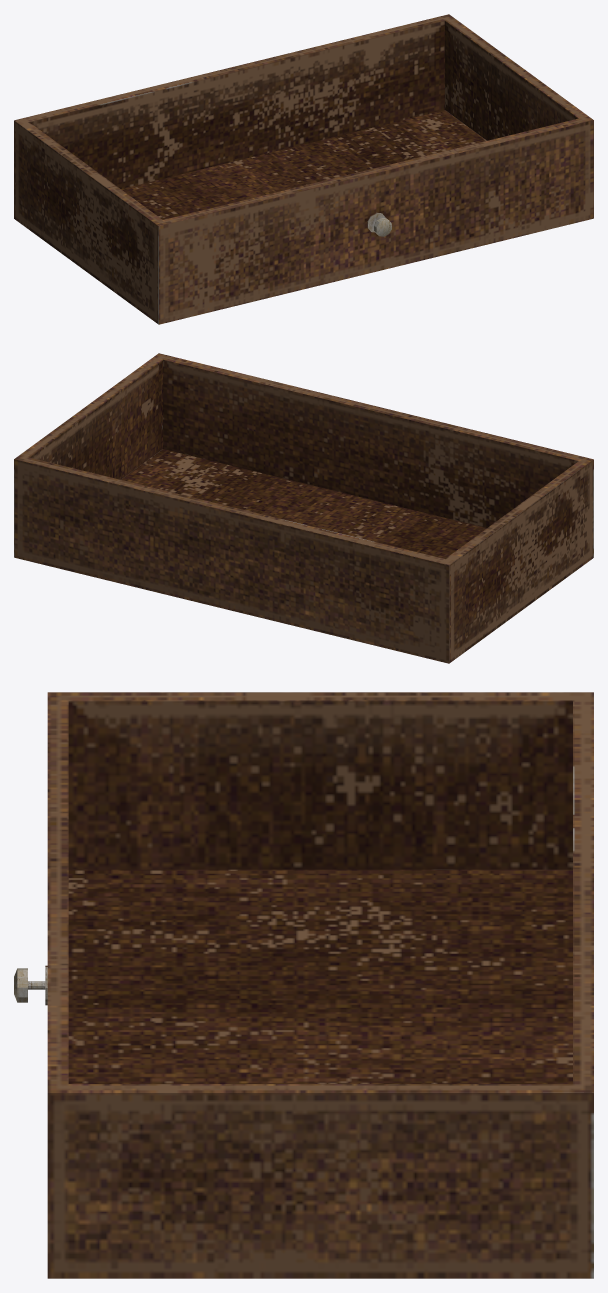
Rendered from Wardrobe_Drawer.fbx.
The picture shows the model from 3 angles, top to bottom: view 1: azimuth 30°, elevation 25°; view 2: azimuth 150°, elevation 25°; view 3: azimuth 270°, elevation 25°; orthographic projection. The views are drawn at different scales.
Parts seen in each view (by area): view 1: Cylinder.030; view 2: Cylinder.030; view 3: Cylinder.030.
Part boxes in pixels (bbox=[...]): Cylinder.030: bbox=[14, 14, 593, 324]; Cylinder.030: bbox=[14, 353, 593, 663]; Cylinder.030: bbox=[14, 692, 593, 1278].
Size of the model in its own units: 55.16 by 90.17 by 19.48.
